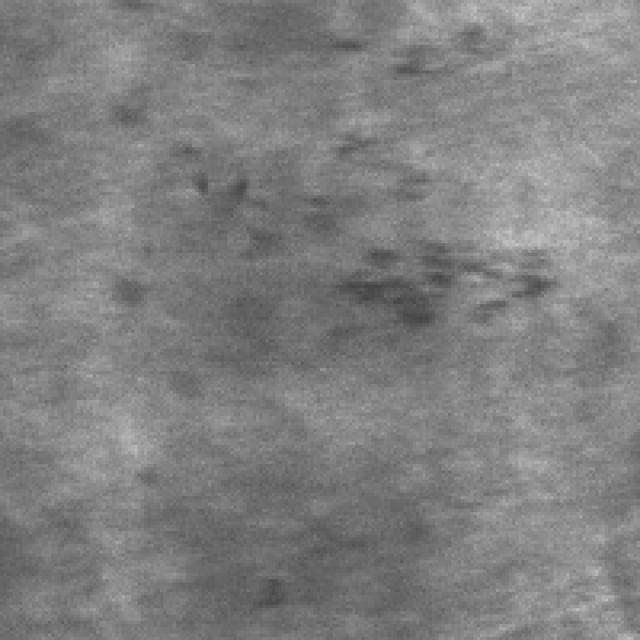rolled-in_scale: (234, 131, 554, 323)
